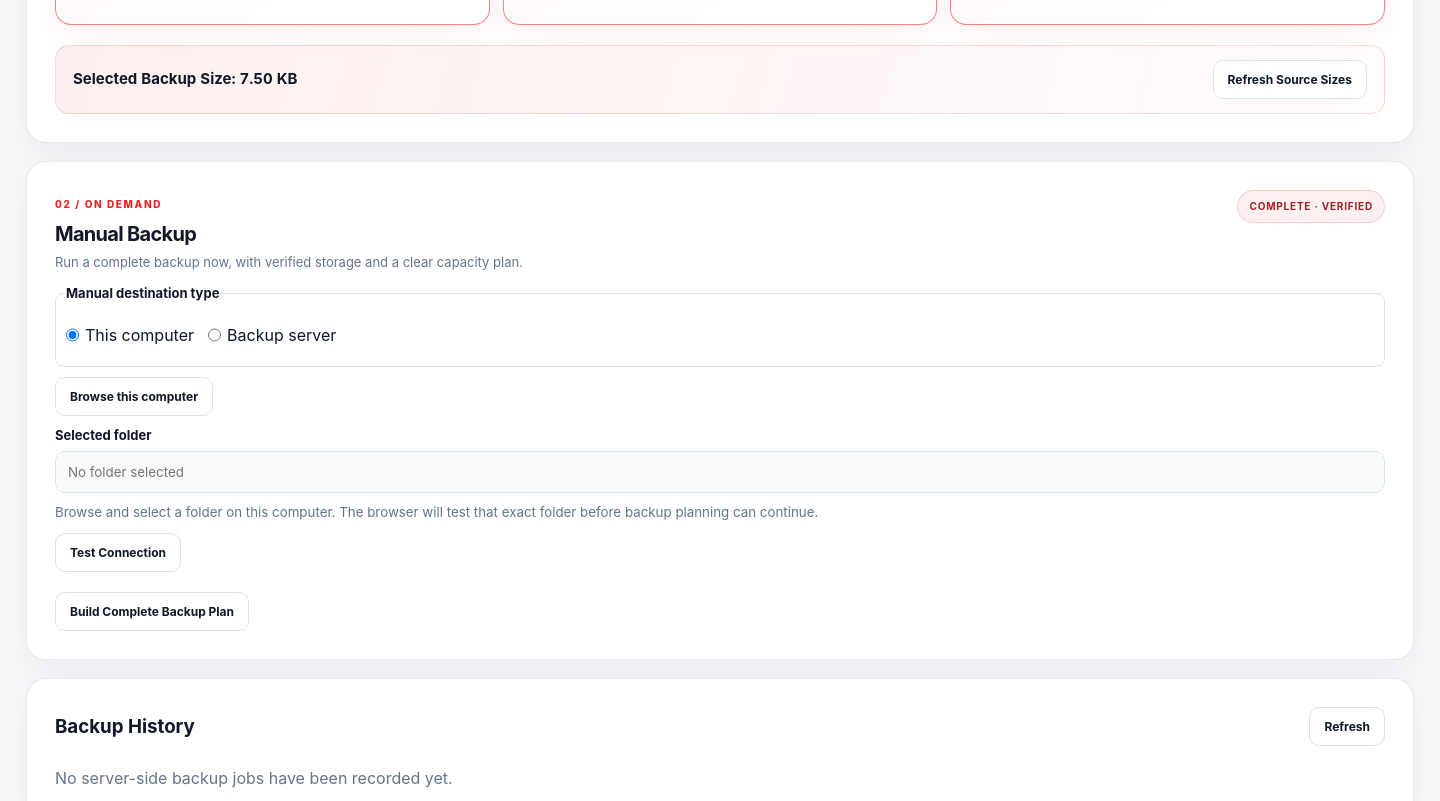
Test: AdminBackupPage › Browse this computer selects the only manual destination without sending a local path to the server
(page scrolled)
Step 1. Click the button "Browse this computer" → click(134, 396), box x1=55 y1=377 x2=213 y2=416
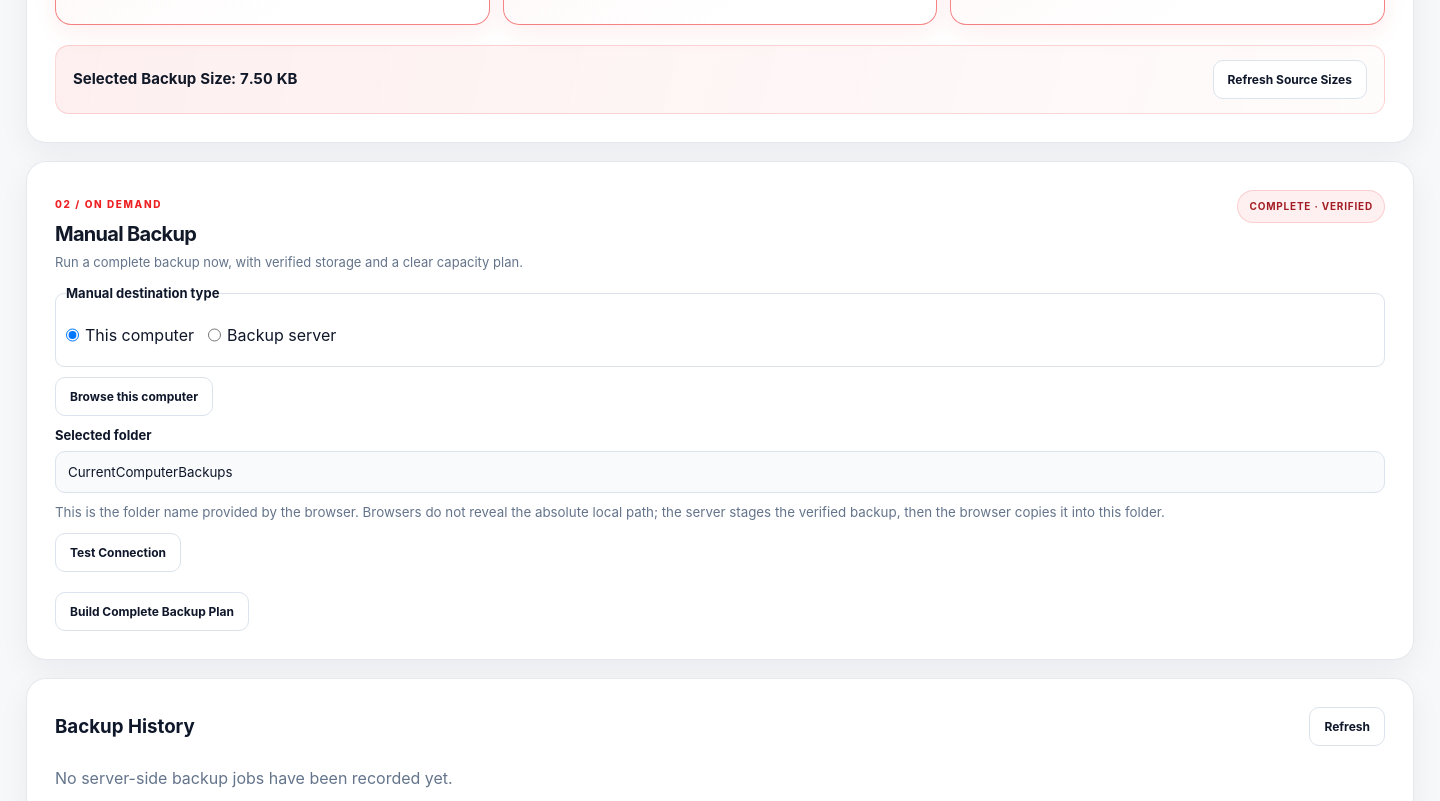
Expected: the button "Build Complete Backup Plan" is disabled, x1=55 y1=592 x2=249 y2=631
Expected: the field labelled "Selected folder" holds "CurrentComputerBackups", x1=55 y1=451 x2=1385 y2=493
